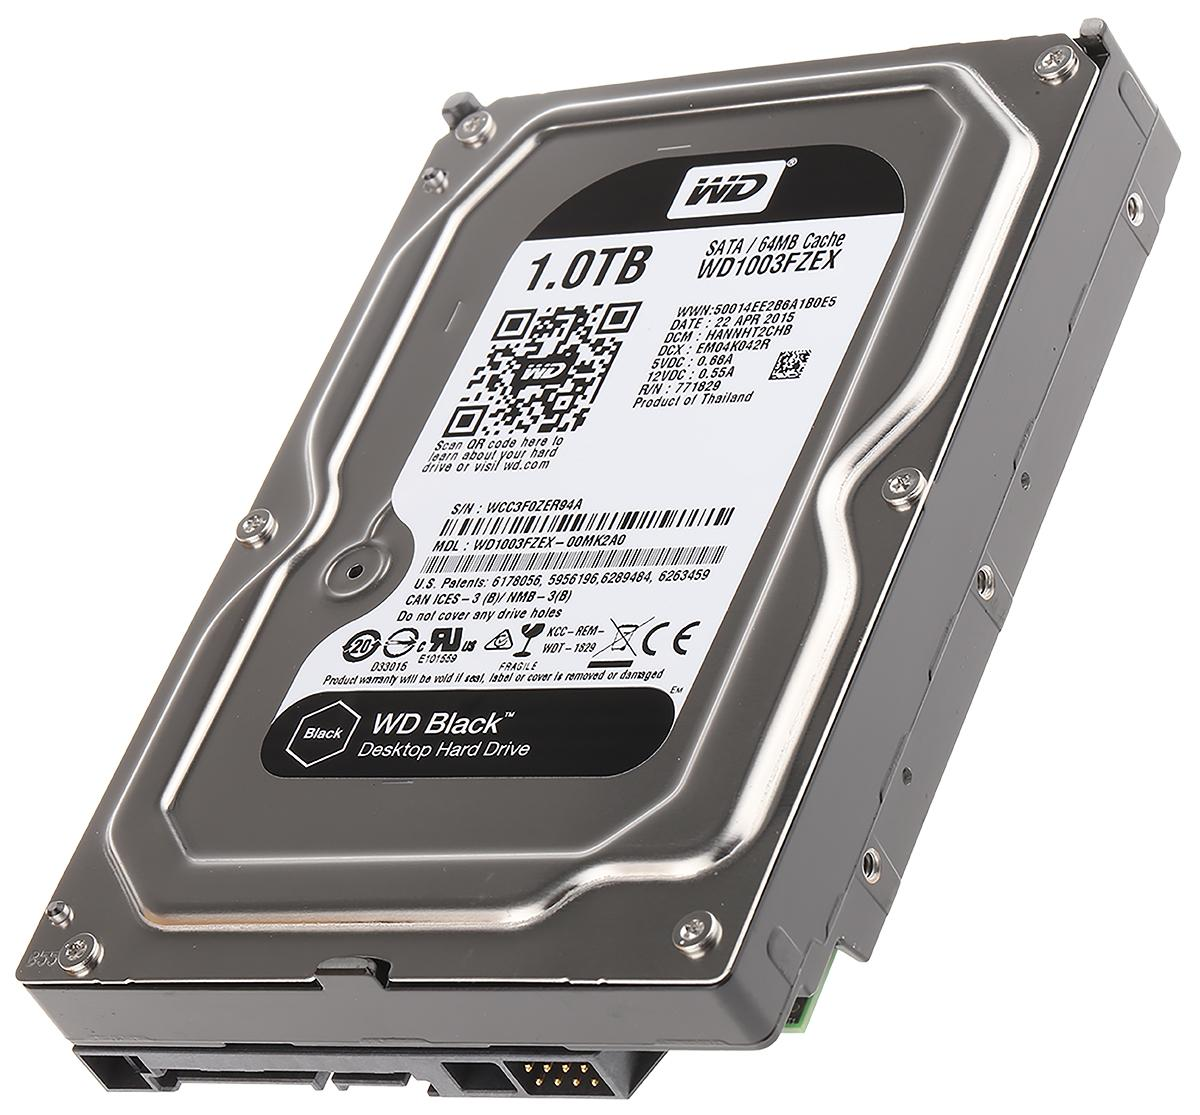internal HDD: (18, 29, 1179, 1115)
